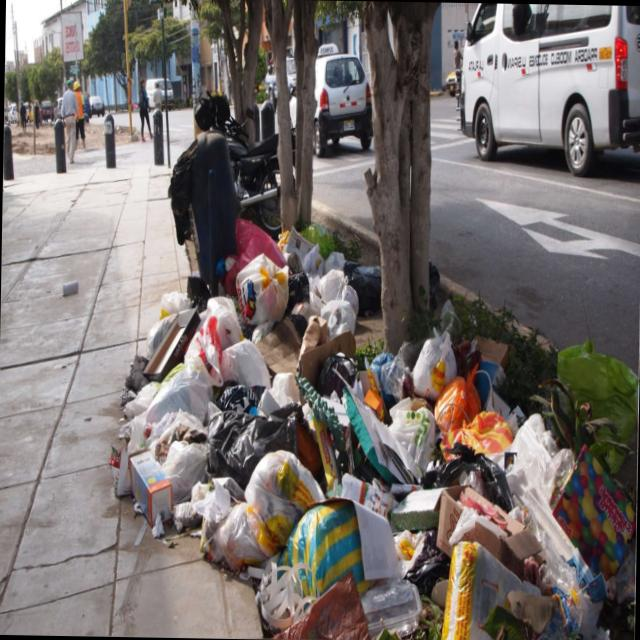garbage: (127, 219, 640, 640)
